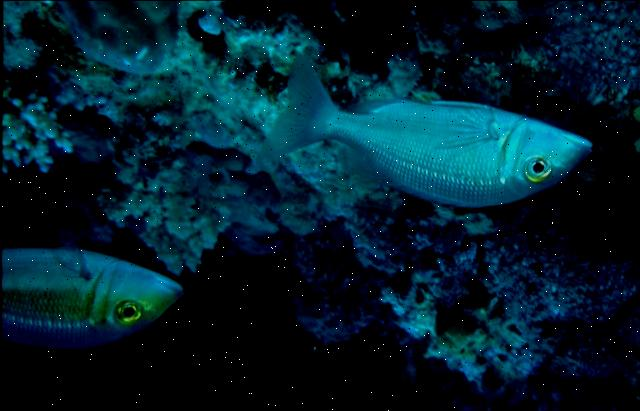Mulut: (133, 264, 191, 308), (556, 111, 604, 161)
Sirip Dada: (426, 101, 502, 168), (44, 216, 96, 290)
Sirip Ekor: (246, 40, 350, 182)
Sirip Punggung: (330, 140, 458, 210)
